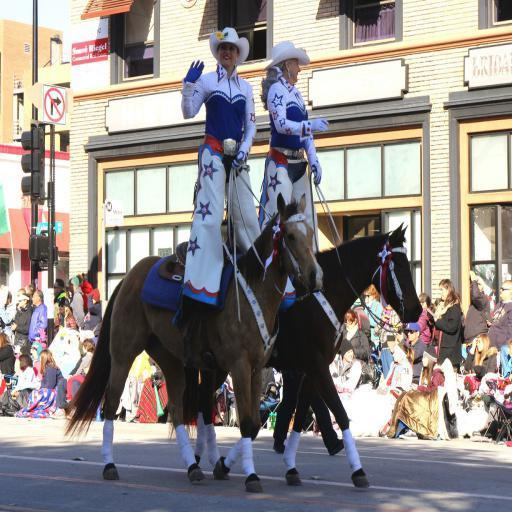horse: (60, 190, 323, 497), (165, 220, 423, 490)
